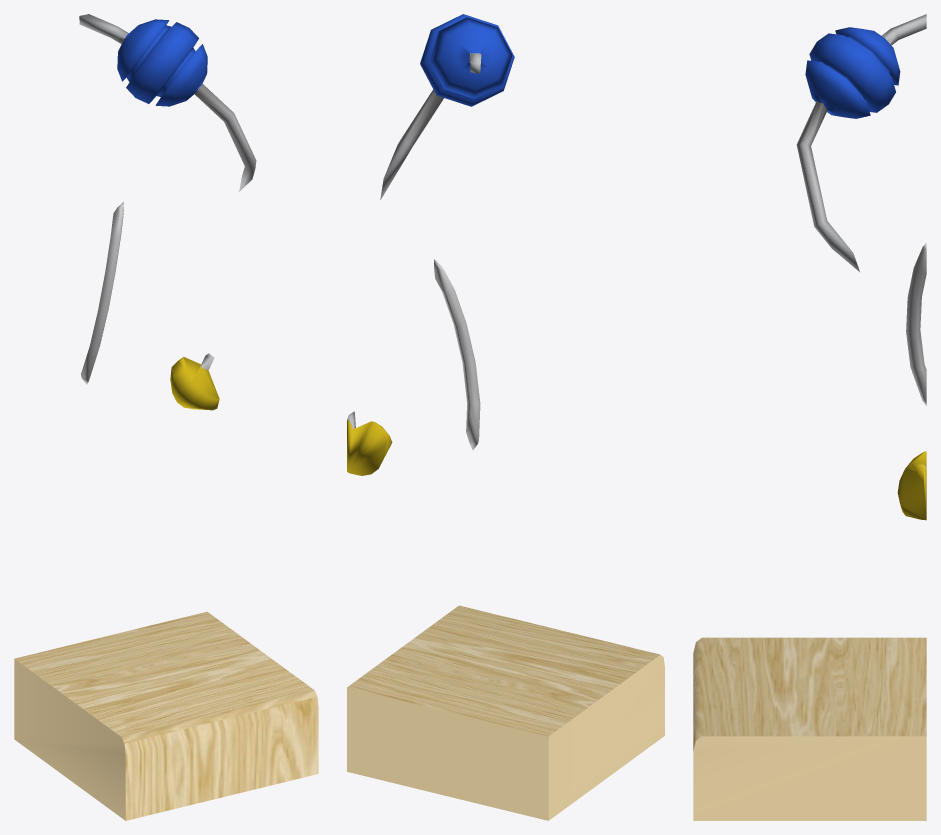
Rendered from 7_Motorikschleife_sm.fbx.
The picture shows the model from 3 angles, left to right: view 1: azimuth 30°, elevation 25°; view 2: azimuth 150°, elevation 25°; view 3: azimuth 270°, elevation 25°; orthographic projection. The views are drawn at different scales.
Parts seen in each view (by area): view 1: Cube.007; view 2: Cube.007; view 3: Cube.007.
Boxes of the visible parts, bbox=[...] form: Cube.007: bbox=[14, 14, 318, 820]; Cube.007: bbox=[347, 14, 664, 820]; Cube.007: bbox=[693, 14, 926, 820].
Bounding box in the file's own units: 500 × 1769 × 500.
